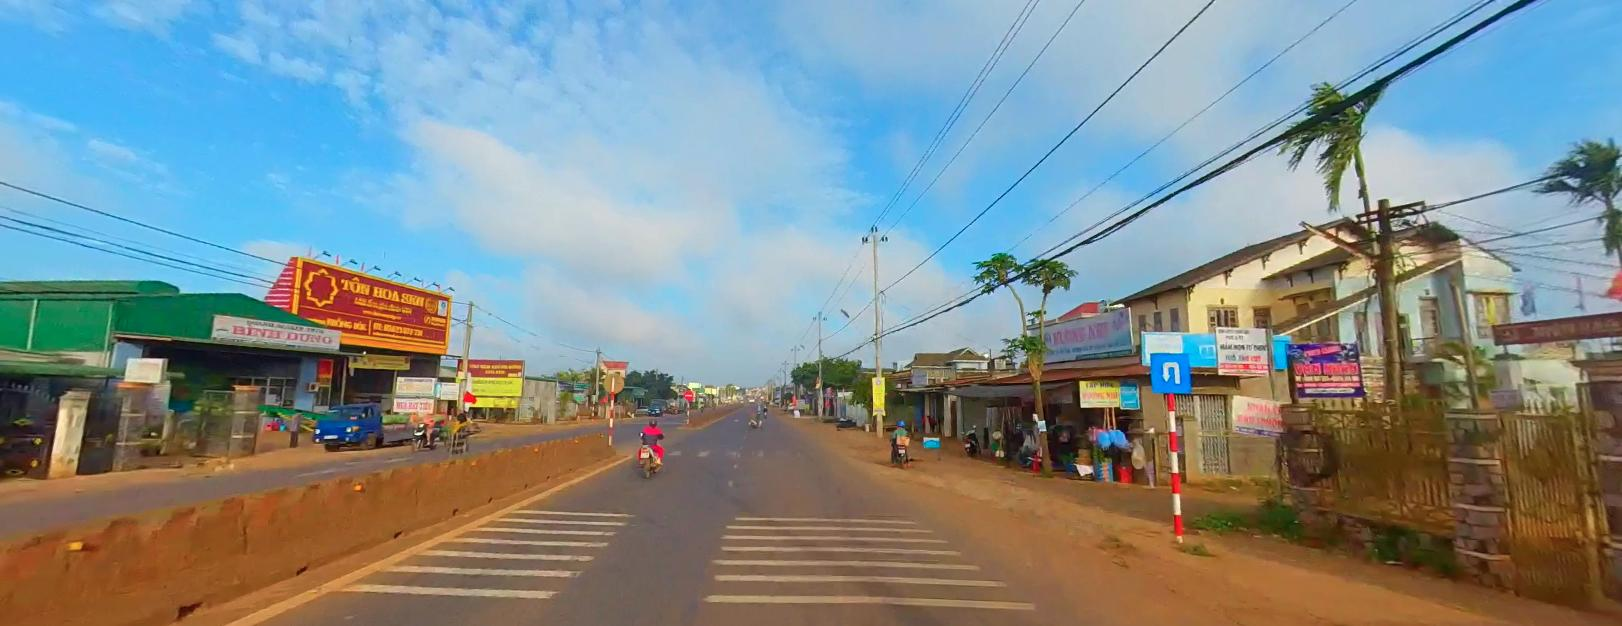Cam nguoc chieu: (684, 389, 693, 398)
